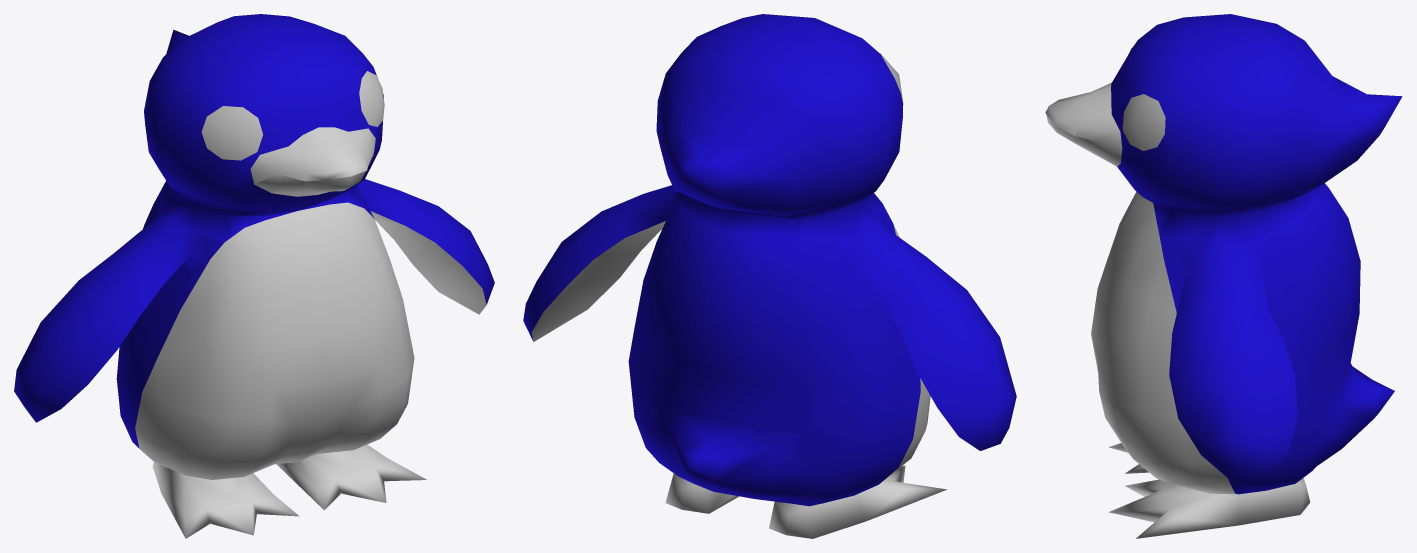
The model's file is penguin.obj.
3 renders of one model, left to right at view 1: azimuth 30°, elevation 25°; view 2: azimuth 150°, elevation 25°; view 3: azimuth 270°, elevation 25°, orthographic. The views are drawn at different scales.
Visible parts, largest first — view 1: m2, m1, m0; view 2: m1, m2; view 3: m1, m2, m0.
Boxes of the visible parts, x1=… form: m2: x1=135, y1=127, x2=486, y2=538; m1: x1=14, y1=14, x2=494, y2=448; m0: x1=201, y1=71, x2=384, y2=160; m1: x1=523, y1=14, x2=1016, y2=506; m2: x1=531, y1=221, x2=947, y2=538; m1: x1=1111, y1=14, x2=1402, y2=494; m2: x1=1045, y1=83, x2=1310, y2=538; m0: x1=1122, y1=47, x2=1165, y2=150.
Bounding box in the file's own units: 1.59 × 1.47 × 1.06.
